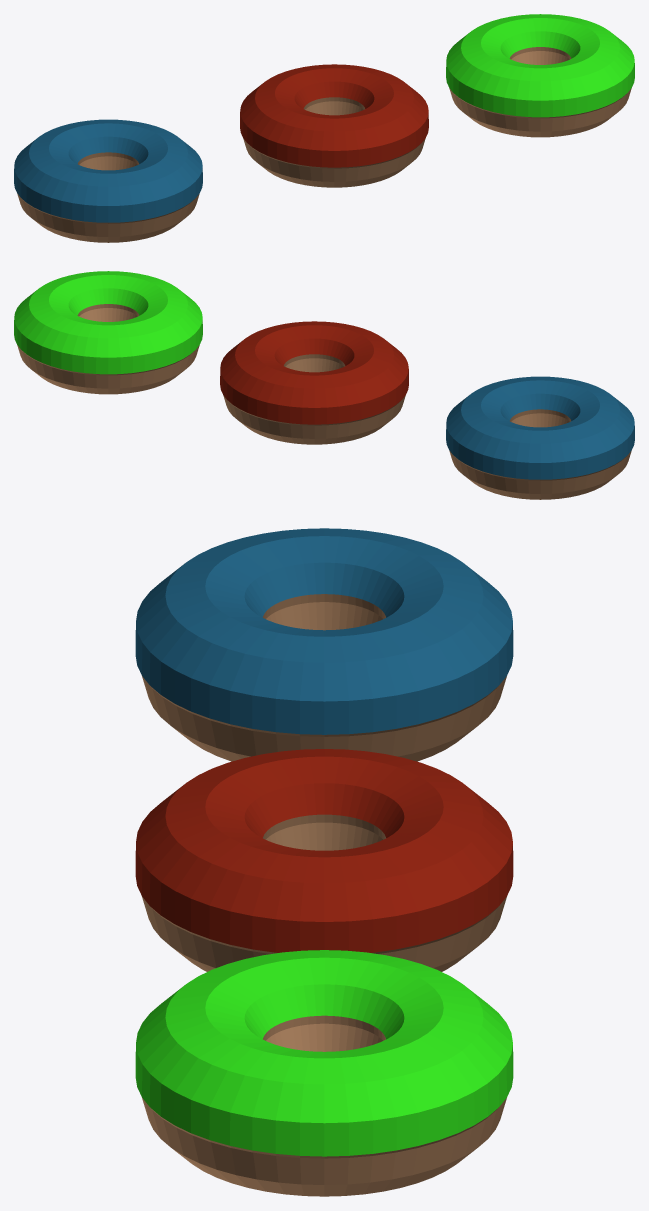
Rendered from Donuts1.fbx.
The picture shows the model from 3 angles, top to bottom: view 1: azimuth 30°, elevation 25°; view 2: azimuth 150°, elevation 25°; view 3: azimuth 270°, elevation 25°; orthographic projection. The views are drawn at different scales.
Parts seen in each view (by area): view 1: Donut1, Donut3, Donut2; view 2: Donut1, Donut3, Donut2; view 3: Donut2, Donut3, Donut1.
Boxes of the visible parts, box(x1,y1,x2,y2) form: Donut1: box(240, 64, 428, 187); Donut3: box(14, 119, 202, 242); Donut2: box(446, 14, 634, 137); Donut1: box(220, 321, 408, 444); Donut3: box(446, 376, 634, 499); Donut2: box(14, 271, 202, 394); Donut2: box(135, 950, 513, 1196); Donut3: box(135, 528, 513, 761); Donut1: box(135, 749, 513, 971).
Size of the model in its own units: 2.19 by 0.2313 by 0.6014.
Materials: 3 (3 with a texture image).
